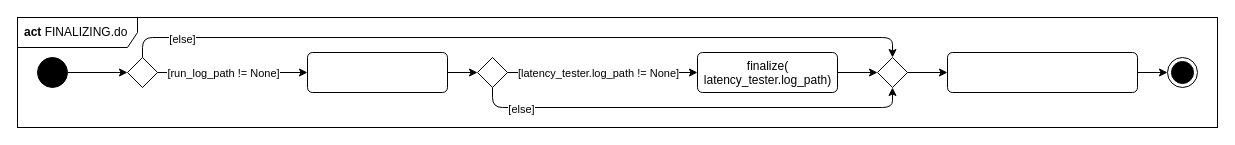
Some shapes in this 1235 by 145 pixel diagram are drawn without their labels. The centre of each missing label's shape, as x and y in pixels:
"finalize(run_log_path)" goes at [377,72].
"uploader.upload_pending_files()" goes at [1042,72].
